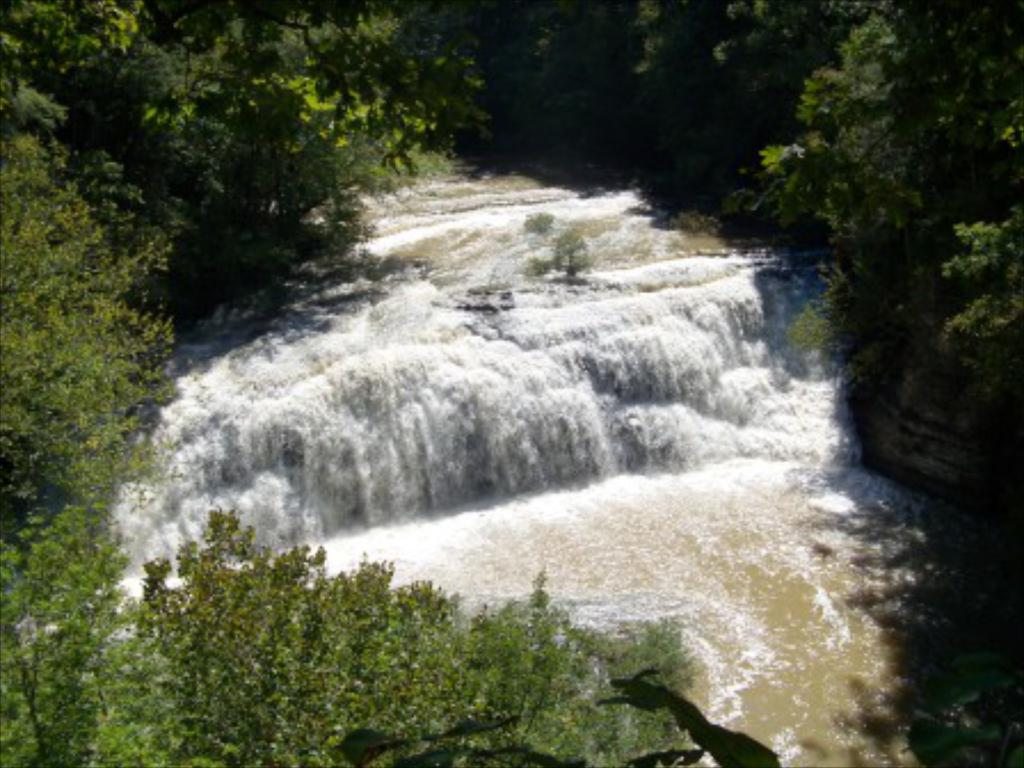Tree: (456, 1, 1024, 428), (1, 5, 473, 513), (0, 497, 695, 768)
